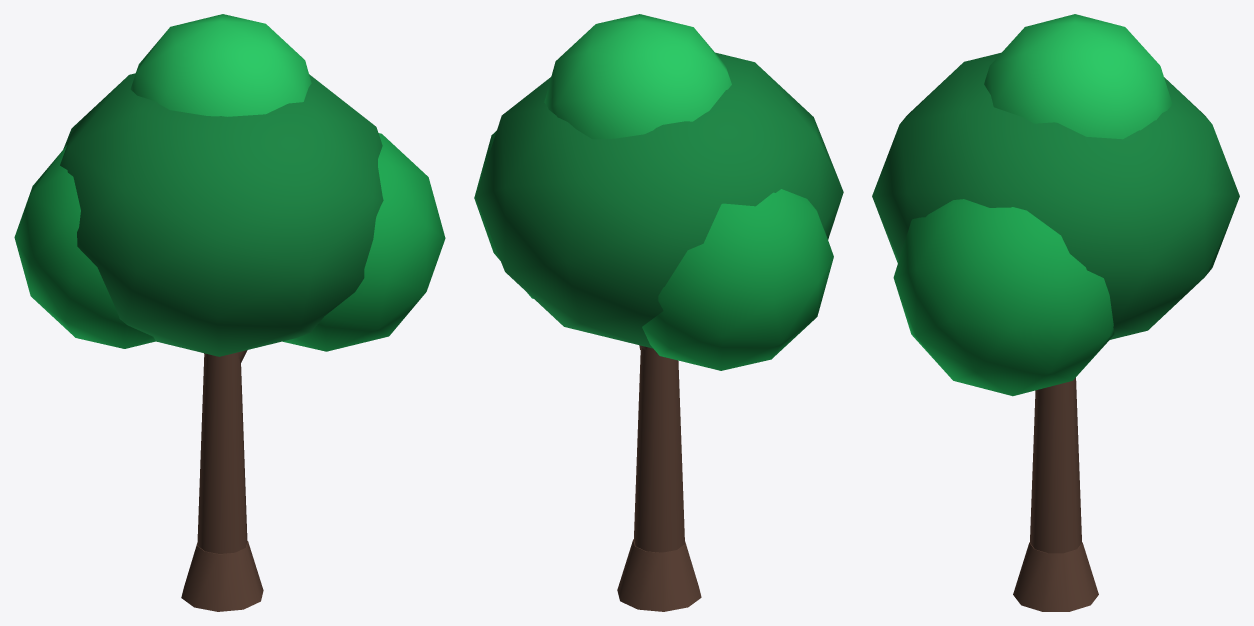
The model's file is urban_tree.glb.
The picture shows the model from 3 angles, left to right: view 1: azimuth 30°, elevation 25°; view 2: azimuth 150°, elevation 25°; view 3: azimuth 270°, elevation 25°; orthographic projection. The views are drawn at different scales.
Visible parts, largest first — view 1: UrbanTree; view 2: UrbanTree; view 3: UrbanTree.
Part boxes in pixels (left/top/right/bottom): UrbanTree: left=14, top=14, right=445, bottom=611; UrbanTree: left=474, top=14, right=843, bottom=611; UrbanTree: left=872, top=14, right=1239, bottom=611.
Bounding box in the file's own units: 4.45 × 6.65 × 3.85.
